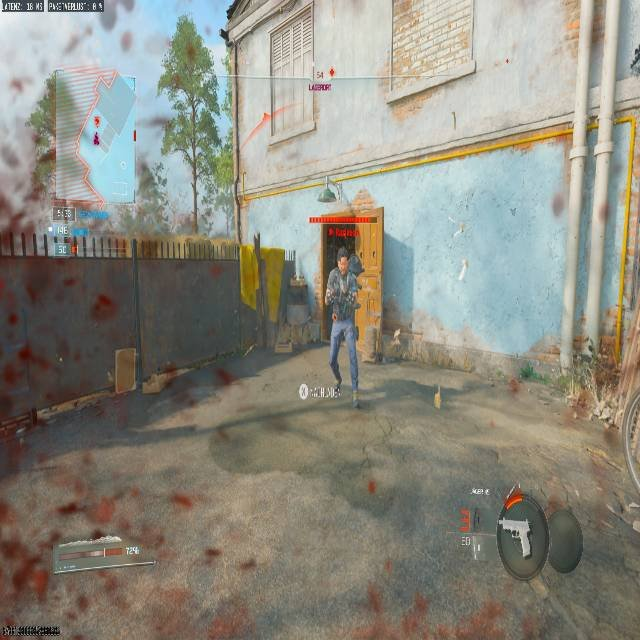head: (336, 248, 349, 270)
player: (326, 246, 363, 398)
